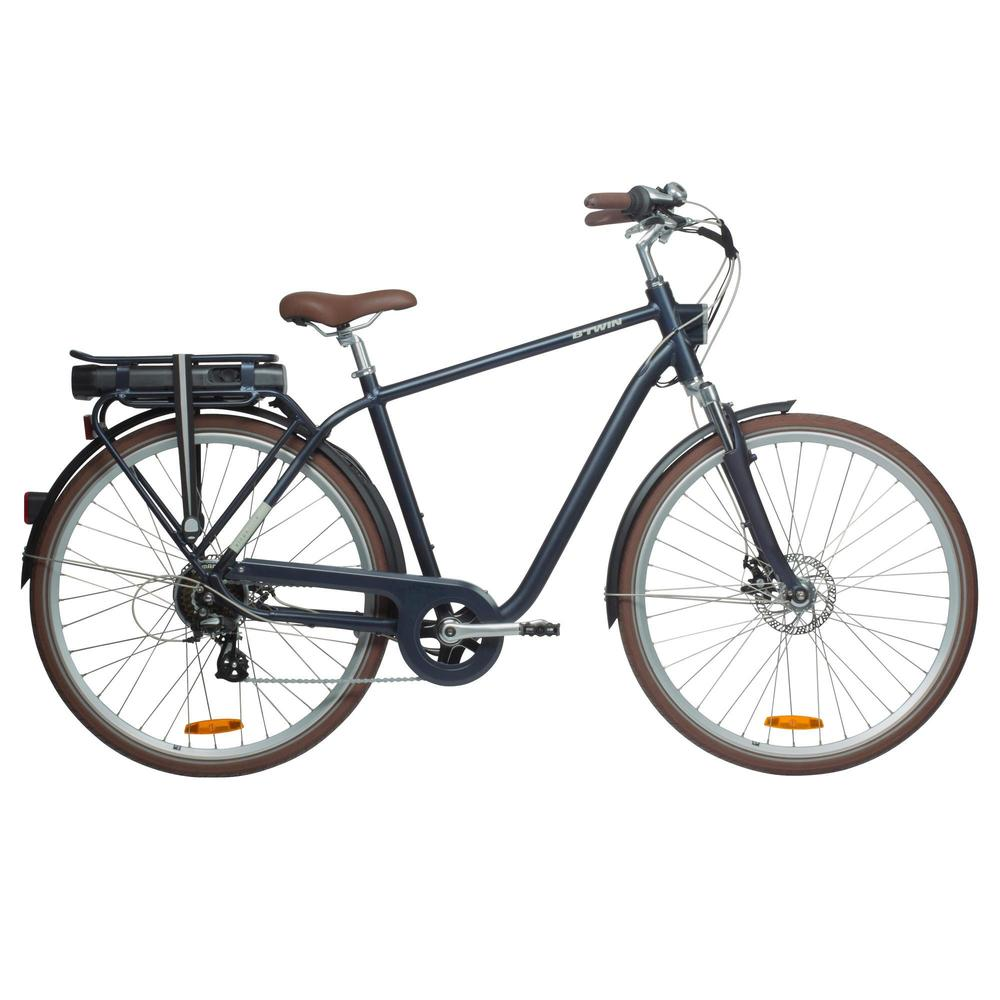UrbanBike: (13, 186, 999, 783)
